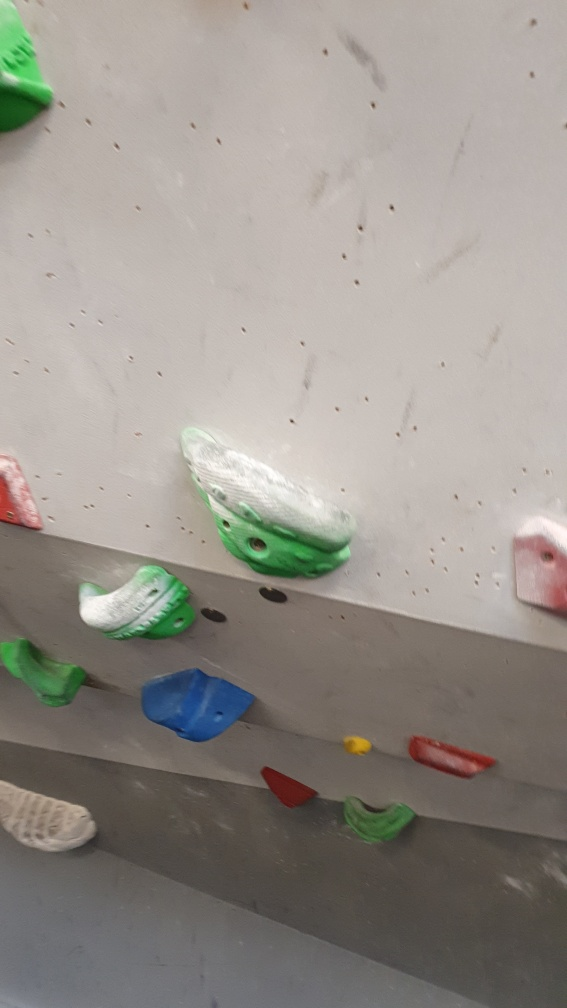Crimp: (397, 722, 503, 784)
Hand Start: (197, 602, 234, 635), (259, 579, 286, 607)
Jug: (177, 421, 361, 581), (68, 554, 199, 653), (1, 628, 91, 711), (338, 787, 424, 848)
Pinch: (135, 665, 260, 748)
